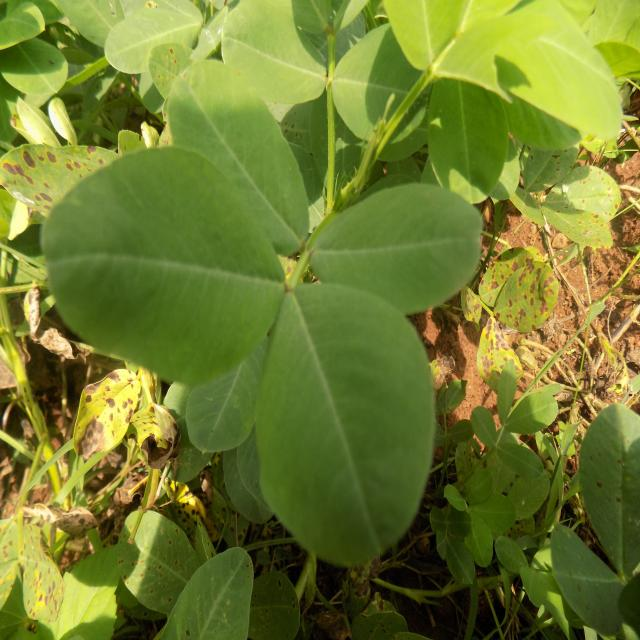Ground nut_healthy: (48, 141, 296, 373), (258, 270, 438, 563), (169, 60, 313, 254), (311, 184, 485, 311), (423, 45, 509, 201)
